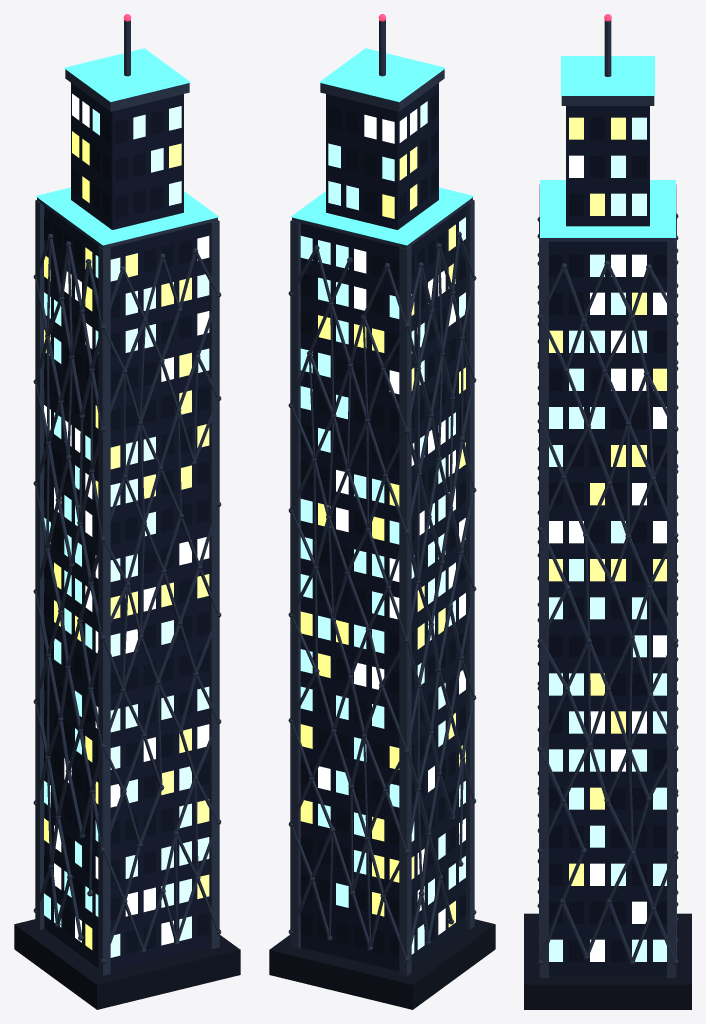
File: torre-red-futurista.glb
The picture shows the model from 3 angles, left to right: view 1: azimuth 30°, elevation 25°; view 2: azimuth 150°, elevation 25°; view 3: azimuth 270°, elevation 25°; orthographic projection.
Visible parts, largest first — view 1: Torre_Red_Futurista_NucleoAzul, Torre_Red_Futurista_AceroRed, Torre_Red_Futurista_VentanaApagada, Torre_Red_Futurista_VentanaCian, Torre_Red_Futurista_BaseOscura, Torre_Red_Futurista_NeonCian, Torre_Red_Futurista_VentanaAmarilla, Torre_Red_Futurista_VentanaBlanca; view 2: Torre_Red_Futurista_NucleoAzul, Torre_Red_Futurista_AceroRed, Torre_Red_Futurista_VentanaApagada, Torre_Red_Futurista_VentanaCian, Torre_Red_Futurista_BaseOscura, Torre_Red_Futurista_NeonCian, Torre_Red_Futurista_VentanaAmarilla, Torre_Red_Futurista_VentanaBlanca; view 3: Torre_Red_Futurista_NucleoAzul, Torre_Red_Futurista_AceroRed, Torre_Red_Futurista_VentanaApagada, Torre_Red_Futurista_VentanaCian, Torre_Red_Futurista_BaseOscura, Torre_Red_Futurista_NeonCian, Torre_Red_Futurista_VentanaBlanca, Torre_Red_Futurista_VentanaAmarilla.
Boxes of the visible parts, x1,y1,x2,y2 form: Torre_Red_Futurista_NucleoAzul: [44, 83, 208, 971]; Torre_Red_Futurista_AceroRed: [33, 20, 221, 975]; Torre_Red_Futurista_VentanaApagada: [44, 110, 209, 954]; Torre_Red_Futurista_VentanaCian: [44, 106, 209, 957]; Torre_Red_Futurista_BaseOscura: [14, 919, 240, 1009]; Torre_Red_Futurista_NeonCian: [36, 48, 218, 245]; Torre_Red_Futurista_VentanaAmarilla: [44, 131, 209, 949]; Torre_Red_Futurista_VentanaBlanca: [44, 93, 209, 945]; Torre_Red_Futurista_NucleoAzul: [301, 83, 465, 971]; Torre_Red_Futurista_AceroRed: [288, 20, 476, 975]; Torre_Red_Futurista_VentanaApagada: [300, 93, 465, 957]; Torre_Red_Futurista_VentanaCian: [300, 101, 465, 954]; Torre_Red_Futurista_BaseOscura: [269, 919, 495, 1009]; Torre_Red_Futurista_NeonCian: [291, 48, 473, 245]; Torre_Red_Futurista_VentanaAmarilla: [300, 146, 465, 927]; Torre_Red_Futurista_VentanaBlanca: [318, 109, 465, 934]; Torre_Red_Futurista_NucleoAzul: [549, 106, 666, 975]; Torre_Red_Futurista_AceroRed: [537, 20, 678, 977]; Torre_Red_Futurista_VentanaApagada: [549, 117, 666, 961]; Torre_Red_Futurista_VentanaCian: [549, 117, 666, 961]; Torre_Red_Futurista_BaseOscura: [524, 913, 691, 1009]; Torre_Red_Futurista_NeonCian: [540, 56, 675, 237]; Torre_Red_Futurista_VentanaBlanca: [549, 155, 666, 961]; Torre_Red_Futurista_VentanaAmarilla: [549, 117, 666, 885].
Size of the model in its own units: 12 by 75.68 by 12.
